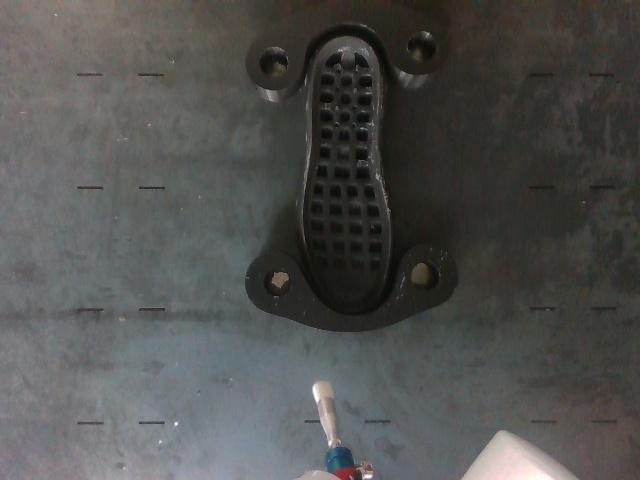shoes: (302, 35, 389, 312)
